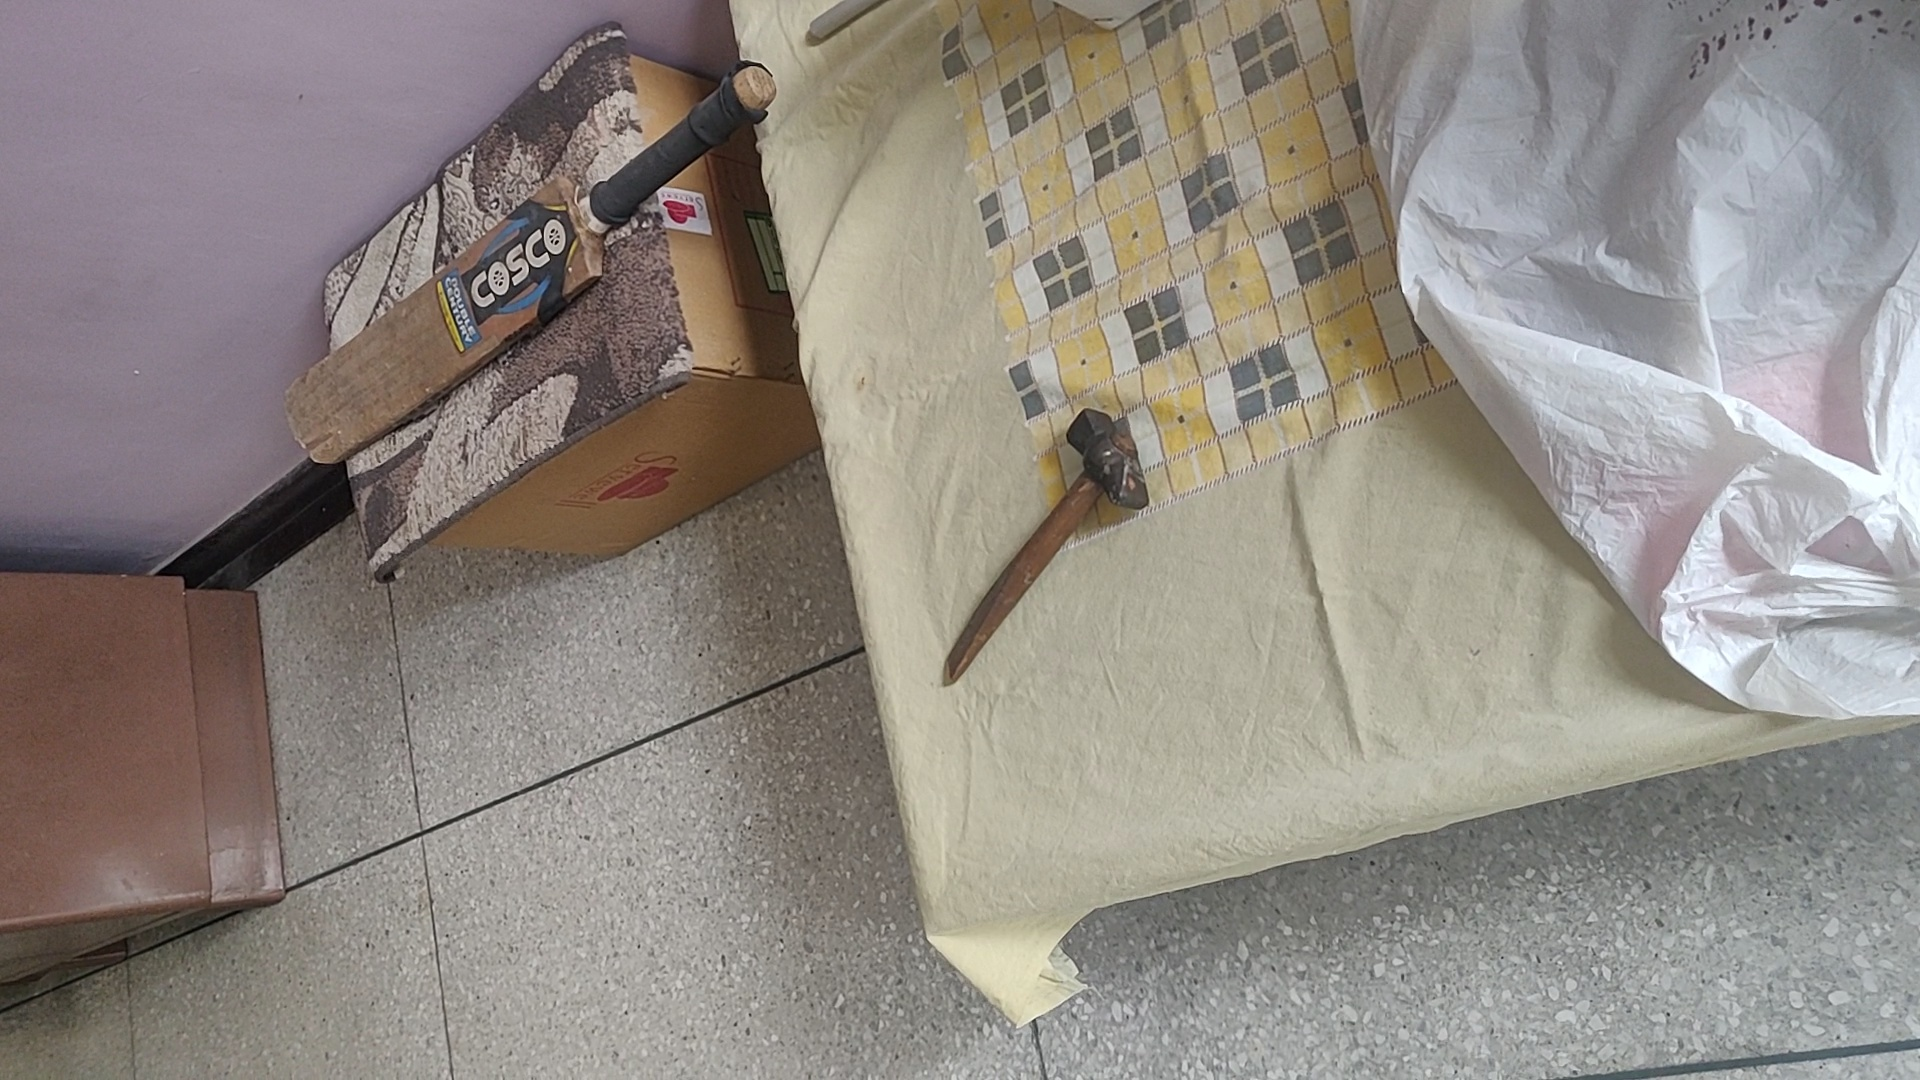hammer: (924, 405, 1150, 686)
